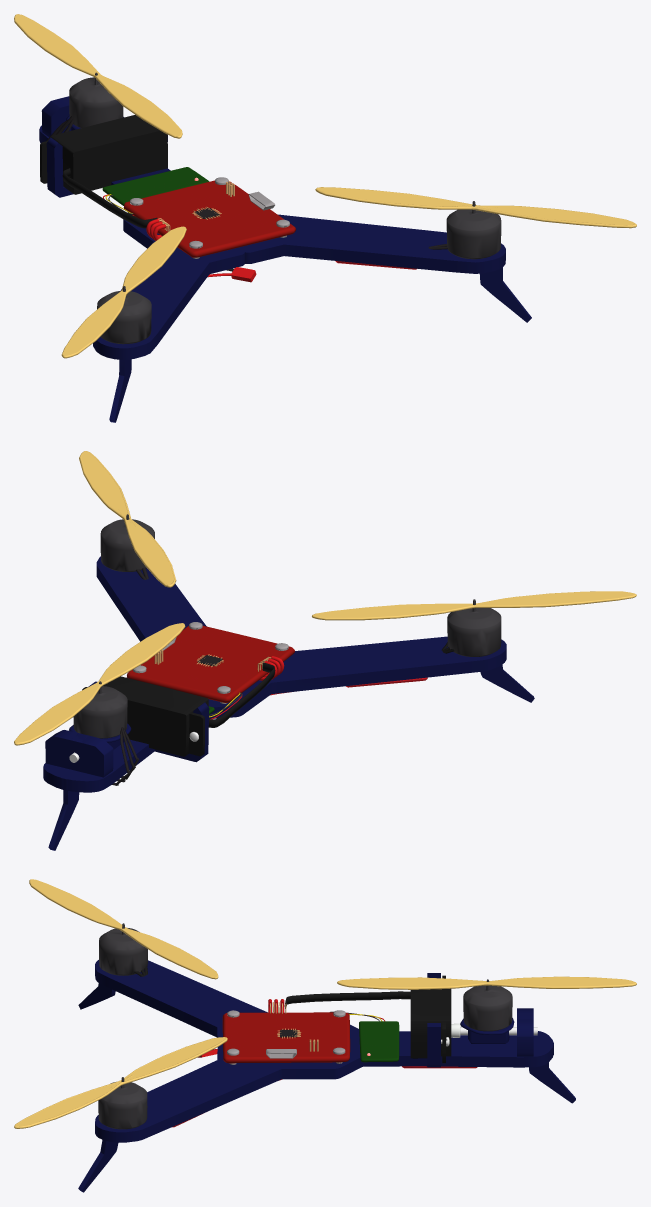
Rendered from tricopter.glb.
3 renders of one model, top to bottom at view 1: azimuth 30°, elevation 25°; view 2: azimuth 150°, elevation 25°; view 3: azimuth 270°, elevation 25°, orthographic. The views are drawn at different scales.
Visible parts, largest first — view 1: Object_2; view 2: Object_2; view 3: Object_2.
Boxes of the visible parts, x1=… form: Object_2: x1=14, y1=14, x2=636, y2=422; Object_2: x1=14, y1=451, x2=636, y2=850; Object_2: x1=14, y1=879, x2=636, y2=1192.
Bounding box in the file's own units: 4.66 × 1.07 × 4.93.
Materials: 2 (2 with a texture image).
